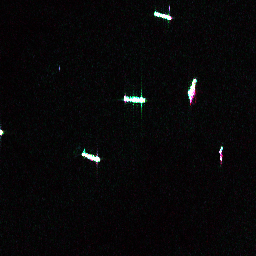ship: (79, 148, 102, 164), (185, 76, 199, 100), (122, 93, 147, 105), (151, 10, 173, 22), (217, 143, 224, 155)
